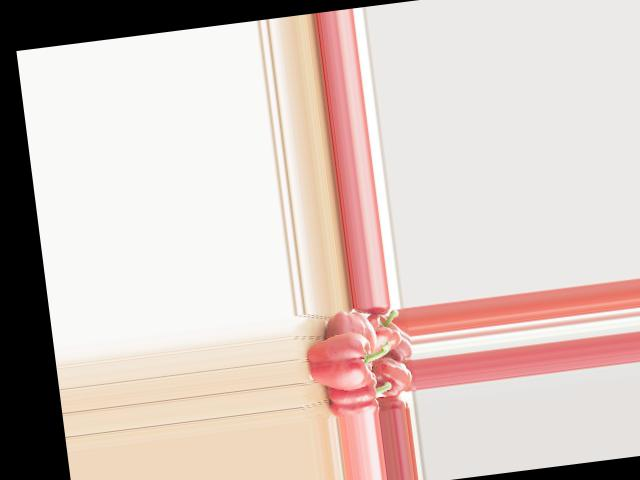bell_pepper: (364, 306, 404, 352)
